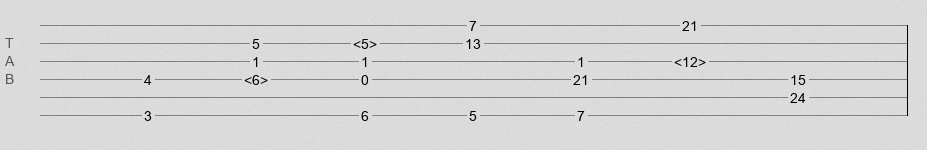0: (361, 72, 369, 82)
1: (252, 54, 260, 64), (361, 54, 369, 64), (577, 54, 585, 64)
13: (465, 36, 481, 46)
15: (790, 72, 806, 82)
21: (573, 72, 589, 82), (682, 18, 698, 28)
24: (790, 90, 806, 100)
3: (144, 108, 152, 118)
4: (144, 72, 152, 82)
5: (252, 36, 260, 46), (469, 108, 477, 118)
6: (361, 108, 369, 118)
7: (469, 18, 477, 28), (577, 108, 585, 118)
harmonic: (674, 54, 706, 64), (244, 72, 268, 82), (353, 36, 377, 46)
